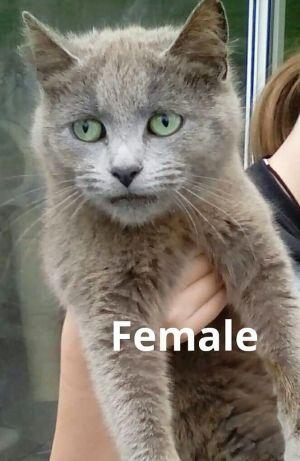rblue: (18, 5, 258, 235)
